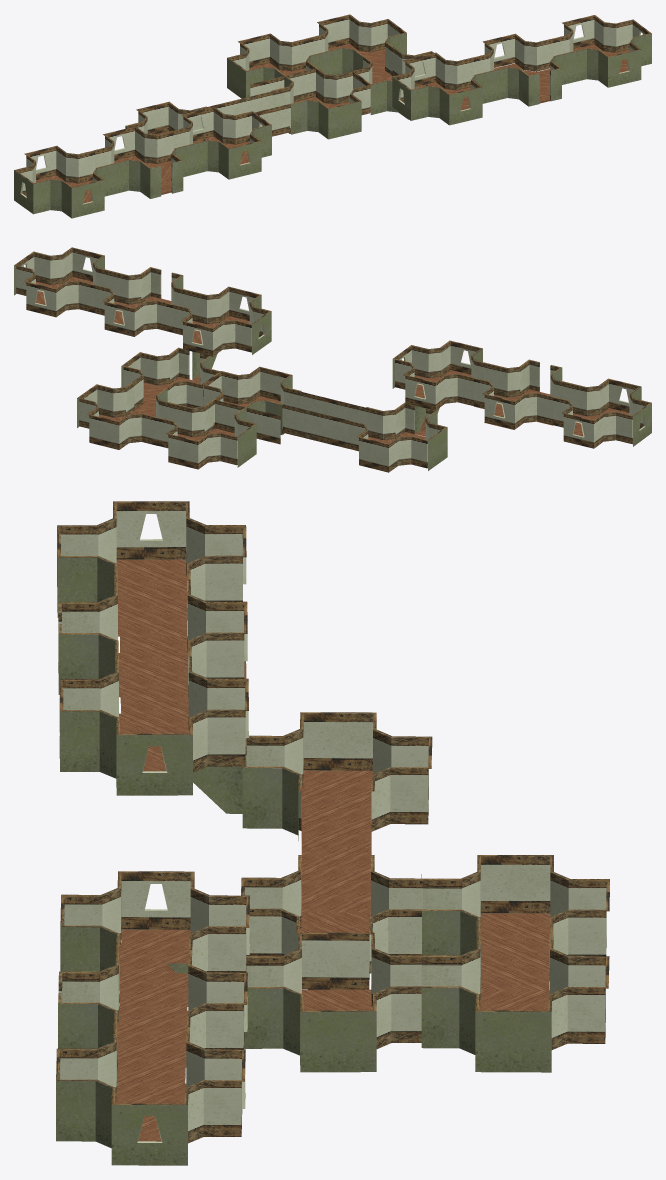
Rendered from HouseInterior_dobleWithBasement.fbx.
3 renders of one model, top to bottom at view 1: azimuth 30°, elevation 25°; view 2: azimuth 150°, elevation 25°; view 3: azimuth 270°, elevation 25°, orthographic. The views are drawn at different scales.
Visible parts, largest first — view 1: sotano_04, pared_lv3_02 (×2), sotano_09, pared_lv3_01 (×2), pared_lv3_03 (×2), sotano_07, pared_lv1_01 (×2), pared_lv1_04 (×2), sotano_01, sotano_06, sotano_05, pared_lv2_01 (×2) (+11 smaller); view 2: sotano_05, pared_lv3_02 (×2), pared_lv3_01 (×2), pared_lv3_03 (×2), sotano_07, sotano_09, sotano_01, sotano_04, sotano_06, pared_lv1_04 (×2), pared_lv1_01 (×2), sotano_08 (+12 smaller); view 3: sotano_05, sotano_07, sotano_09, sotano_01, sotano_04, suelo_06 (×2), pared_lv3_03 (×2), pared_lv3_01 (×2), pared_lv3_02 (×2), suelo_bajada_02 (×2), pared_lateral_08 (×2), pared_lateral_07 (×2) (+8 smaller).
Boxes of the visible parts, left/top/right/bottom form: sotano_04: left=272, top=66, right=371, bottom=139; pared_lv3_02 (×2): left=94, top=33, right=553, bottom=168; sotano_09: left=306, top=14, right=406, bottom=81; pared_lv3_01 (×2): left=14, top=15, right=632, bottom=196; pared_lv3_03 (×2): left=173, top=52, right=473, bottom=149; sotano_07: left=227, top=33, right=327, bottom=98; pared_lv1_01 (×2): left=61, top=42, right=641, bottom=218; pared_lv1_04 (×2): left=218, top=80, right=482, bottom=179; sotano_01: left=352, top=47, right=433, bottom=119; sotano_06: left=207, top=91, right=289, bottom=136; sotano_05: left=125, top=101, right=207, bottom=142; pared_lv2_01 (×2): left=33, top=33, right=651, bottom=214; sotano_05: left=348, top=402, right=447, bottom=472; pared_lv3_02 (×2): left=94, top=285, right=553, bottom=429; pared_lv3_01 (×2): left=14, top=265, right=632, bottom=448; pared_lv3_03 (×2): left=173, top=304, right=473, bottom=410; sotano_07: left=156, top=401, right=256, bottom=469; sotano_09: left=77, top=382, right=177, bottom=449; sotano_01: left=121, top=347, right=219, bottom=415; sotano_04: left=202, top=366, right=301, bottom=434; sotano_06: left=283, top=391, right=367, bottom=448; pared_lv1_04 (×2): left=219, top=286, right=482, bottom=376; pared_lv1_01 (×2): left=62, top=247, right=641, bottom=414; sotano_08: left=215, top=400, right=280, bottom=444; sotano_05: left=242, top=712, right=432, bottom=847; sotano_07: left=422, top=855, right=609, bottom=990; sotano_09: left=421, top=932, right=609, bottom=1072; sotano_01: left=244, top=932, right=431, bottom=1072; sotano_04: left=241, top=855, right=429, bottom=989; suelo_06 (×2): left=117, top=636, right=246, bottom=1083; pared_lv3_03 (×2): left=188, top=656, right=249, bottom=972; pared_lv3_01 (×2): left=184, top=501, right=246, bottom=1143; pared_lv3_02 (×2): left=187, top=579, right=247, bottom=1049; suelo_bajada_02 (×2): left=119, top=713, right=246, bottom=1006; pared_lateral_08 (×2): left=111, top=501, right=188, bottom=1165; pared_lateral_07 (×2): left=116, top=733, right=194, bottom=931.
Size of the model in its own units: 35032 by 3176 by 13578.
